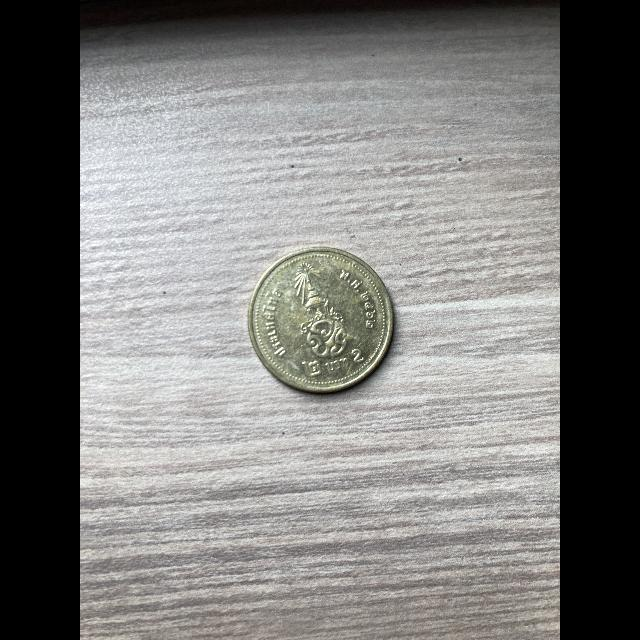2 Bath: (249, 248, 399, 399)
